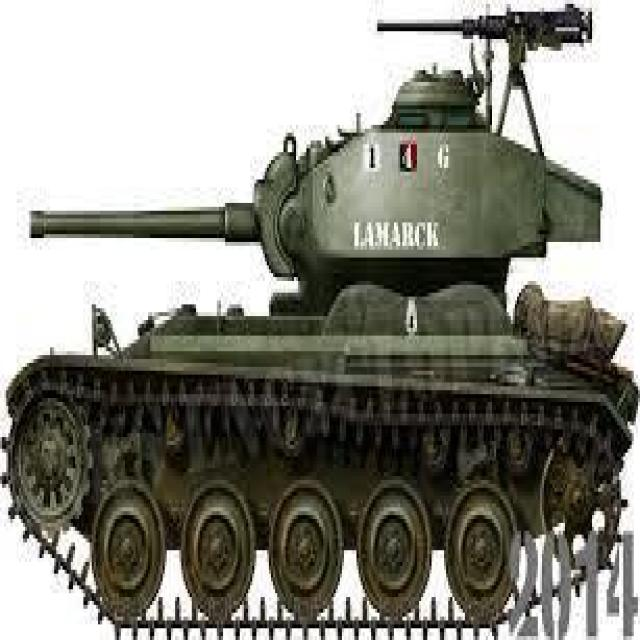Tanks: (9, 301, 628, 636)
